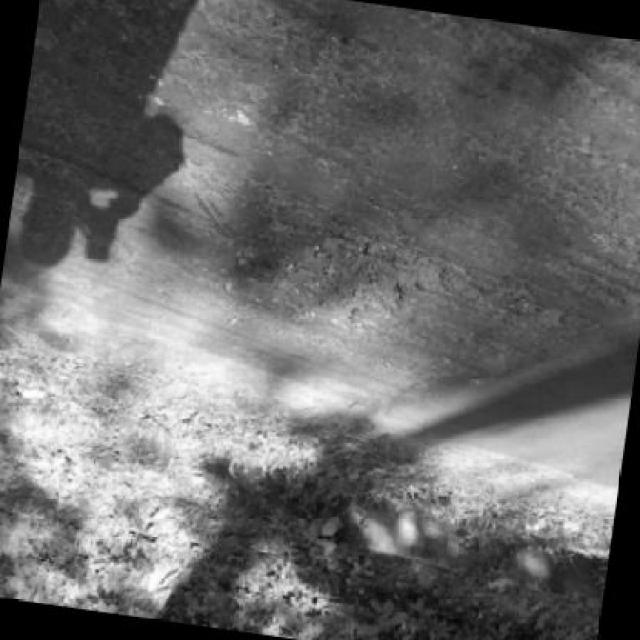pothole: (254, 212, 463, 350)
